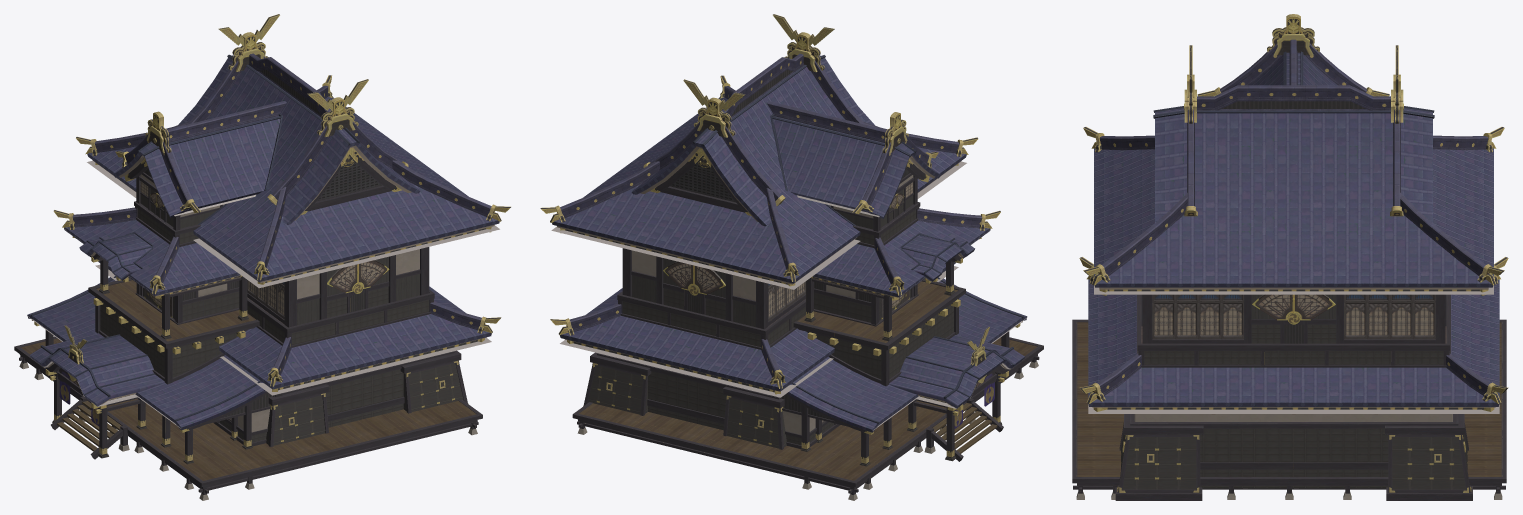
File: Homeworld_Exterior_Dq_Build_House_21_Lod0.fbx
The picture shows the model from 3 angles, left to right: view 1: azimuth 30°, elevation 25°; view 2: azimuth 150°, elevation 25°; view 3: azimuth 270°, elevation 25°; orthographic projection. The views are drawn at different scales.
Parts seen in each view (by area): view 1: Area_Dq_Build_MS_TsgHouse_02_Lod0, Area_Dq_Build_MS_KdfxHouse_01_Lod0, Area_Dq_Build_MS_TsgPlatform_02_Lod0, Area_Dq_Build_MS_TsgHouse_02_Ocl, Area_Dq_Stairs_MS_Tsg_01_Vo; view 2: Area_Dq_Build_MS_TsgHouse_02_Lod0, Area_Dq_Build_MS_KdfxHouse_01_Lod0, Area_Dq_Build_MS_TsgPlatform_02_Lod0, Area_Dq_Build_MS_TsgHouse_02_Ocl, Area_Dq_Stairs_MS_Tsg_01_Vo; view 3: Area_Dq_Build_MS_TsgHouse_02_Lod0, Area_Dq_Build_MS_TsgPlatform_02_Lod0, Area_Dq_Build_MS_KdfxHouse_01_Lod0, Area_Dq_Build_MS_TsgHouse_02_Ocl.
Part boxes in pixels (x1,y1,x2,y2): Area_Dq_Build_MS_TsgHouse_02_Lod0: [76, 14, 510, 447]; Area_Dq_Build_MS_KdfxHouse_01_Lod0: [27, 101, 286, 464]; Area_Dq_Build_MS_TsgPlatform_02_Lod0: [14, 336, 482, 500]; Area_Dq_Build_MS_TsgHouse_02_Ocl: [87, 160, 499, 395]; Area_Dq_Stairs_MS_Tsg_01_Vo: [51, 396, 129, 459]; Area_Dq_Build_MS_TsgHouse_02_Lod0: [540, 14, 978, 449]; Area_Dq_Build_MS_KdfxHouse_01_Lod0: [766, 101, 1027, 466]; Area_Dq_Build_MS_TsgPlatform_02_Lod0: [572, 337, 1043, 500]; Area_Dq_Build_MS_TsgHouse_02_Ocl: [551, 161, 966, 397]; Area_Dq_Stairs_MS_Tsg_01_Vo: [924, 398, 1003, 461]; Area_Dq_Build_MS_TsgHouse_02_Lod0: [1079, 45, 1508, 500]; Area_Dq_Build_MS_TsgPlatform_02_Lod0: [1072, 319, 1506, 499]; Area_Dq_Build_MS_KdfxHouse_01_Lod0: [1197, 14, 1389, 96]; Area_Dq_Build_MS_TsgHouse_02_Ocl: [1088, 285, 1499, 413].
Size of what is drawn, in the model's own units: 35.65 by 31.79 by 32.25.
